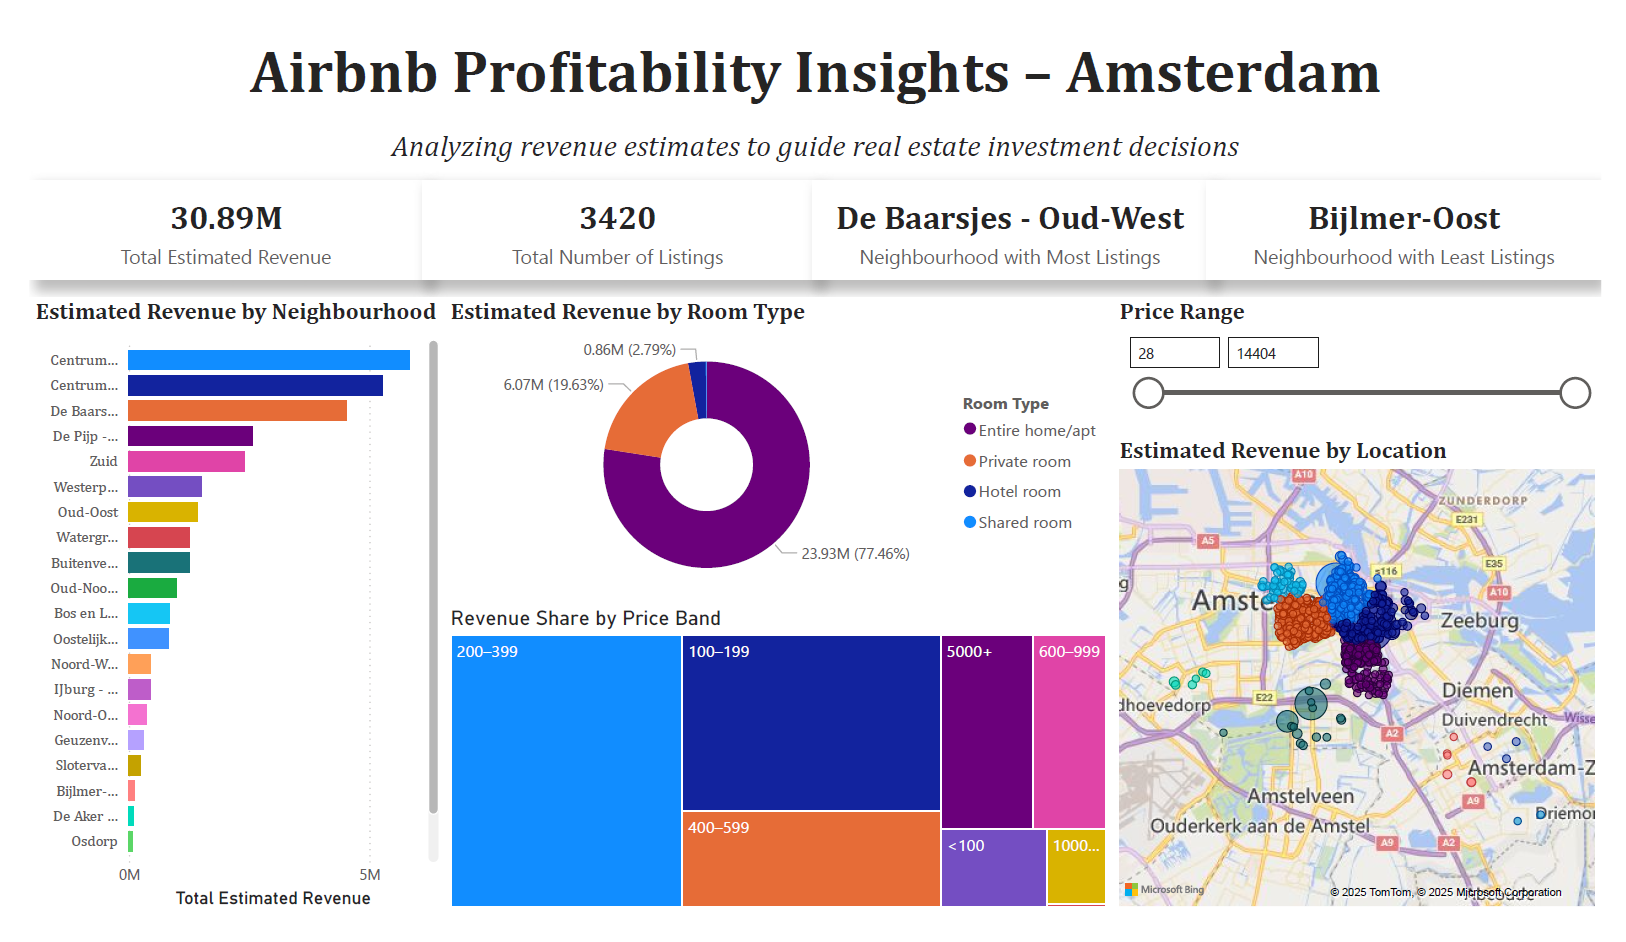

This screenshot's page, from the dashboard's own definition file:
{"tool":"powerbi","page":{"name":"Page 2","canvas":[1280,720],"ordinal":0},"visuals":[{"type":"textbox","box":[0,0,1279.7,75.2],"z":0},{"type":"textbox","box":[0,75.2,1279.7,47.5],"z":1000},{"type":"card","fields":{"Values":["listings.Total Estimated Revenue"]},"box":[0,122.7,319.7,81.2],"z":2000},{"type":"card","fields":{"Values":["Count(listings.id)"]},"box":[319.7,122.7,318.7,81.2],"z":3000},{"type":"card","fields":{"Values":["Min(listings.neighbourhood)"]},"box":[638.4,122.7,320.7,81.2],"z":4000},{"type":"card","fields":{"Values":["Min(listings.neighbourhood)"]},"box":[959,122.7,320.7,81.2],"z":5000},{"type":"barChart","title":"Estimated Revenue by Neighbourhood","fields":{"Y":["listings.Total Estimated Revenue"],"Category":["listings.neighbourhood"],"Series":["listings.neighbourhood"]},"box":[0,217.7,338.5,502.8],"z":6000},{"type":"donutChart","title":"Estimated Revenue by Room Type","fields":{"Y":["listings.Total Estimated Revenue"],"Category":["listings.room_type"]},"box":[338.5,217.7,544.3,251.4],"z":7000},{"type":"map","title":"Estimated Revenue by Location","fields":{"Y":["listings.latitude"],"X":["listings.longitude"],"Series":["listings.neighbourhood"],"Size":["Sum(listings.estimated_revenue)"]},"box":[882.8,330.6,396.9,389.9],"z":8000},{"type":"slicer","title":"Price Range","fields":{"Values":["listings.price"]},"box":[882.8,217.7,396.9,112.8],"z":9000},{"type":"treemap","title":"Revenue Share by Price Band","fields":{"Group":["listings.Price Band"],"Values":["Sum(listings.estimated_revenue)"]},"box":[338,469,544,251],"z":9001}]}

Visuals, with their boxes in screenshot pixels (x1, y1, x2, y2), scaled from the page's 1280x720 canvas onto the 1626x942 screenshot:
textbox: (left=0, top=0, right=1625, bottom=98)
textbox: (left=0, top=98, right=1625, bottom=161)
card - listings.Total Estimated Revenue: (left=0, top=161, right=406, bottom=267)
card - Count(listings.id): (left=406, top=161, right=811, bottom=267)
card - Min(listings.neighbourhood): (left=811, top=161, right=1218, bottom=267)
card - Min(listings.neighbourhood): (left=1218, top=161, right=1625, bottom=267)
"Estimated Revenue by Neighbourhood" barChart: (left=0, top=285, right=430, bottom=941)
"Estimated Revenue by Room Type" donutChart: (left=430, top=285, right=1121, bottom=614)
"Estimated Revenue by Location" map: (left=1121, top=433, right=1625, bottom=941)
"Price Range" slicer: (left=1121, top=285, right=1625, bottom=432)
"Revenue Share by Price Band" treemap: (left=429, top=614, right=1120, bottom=941)
